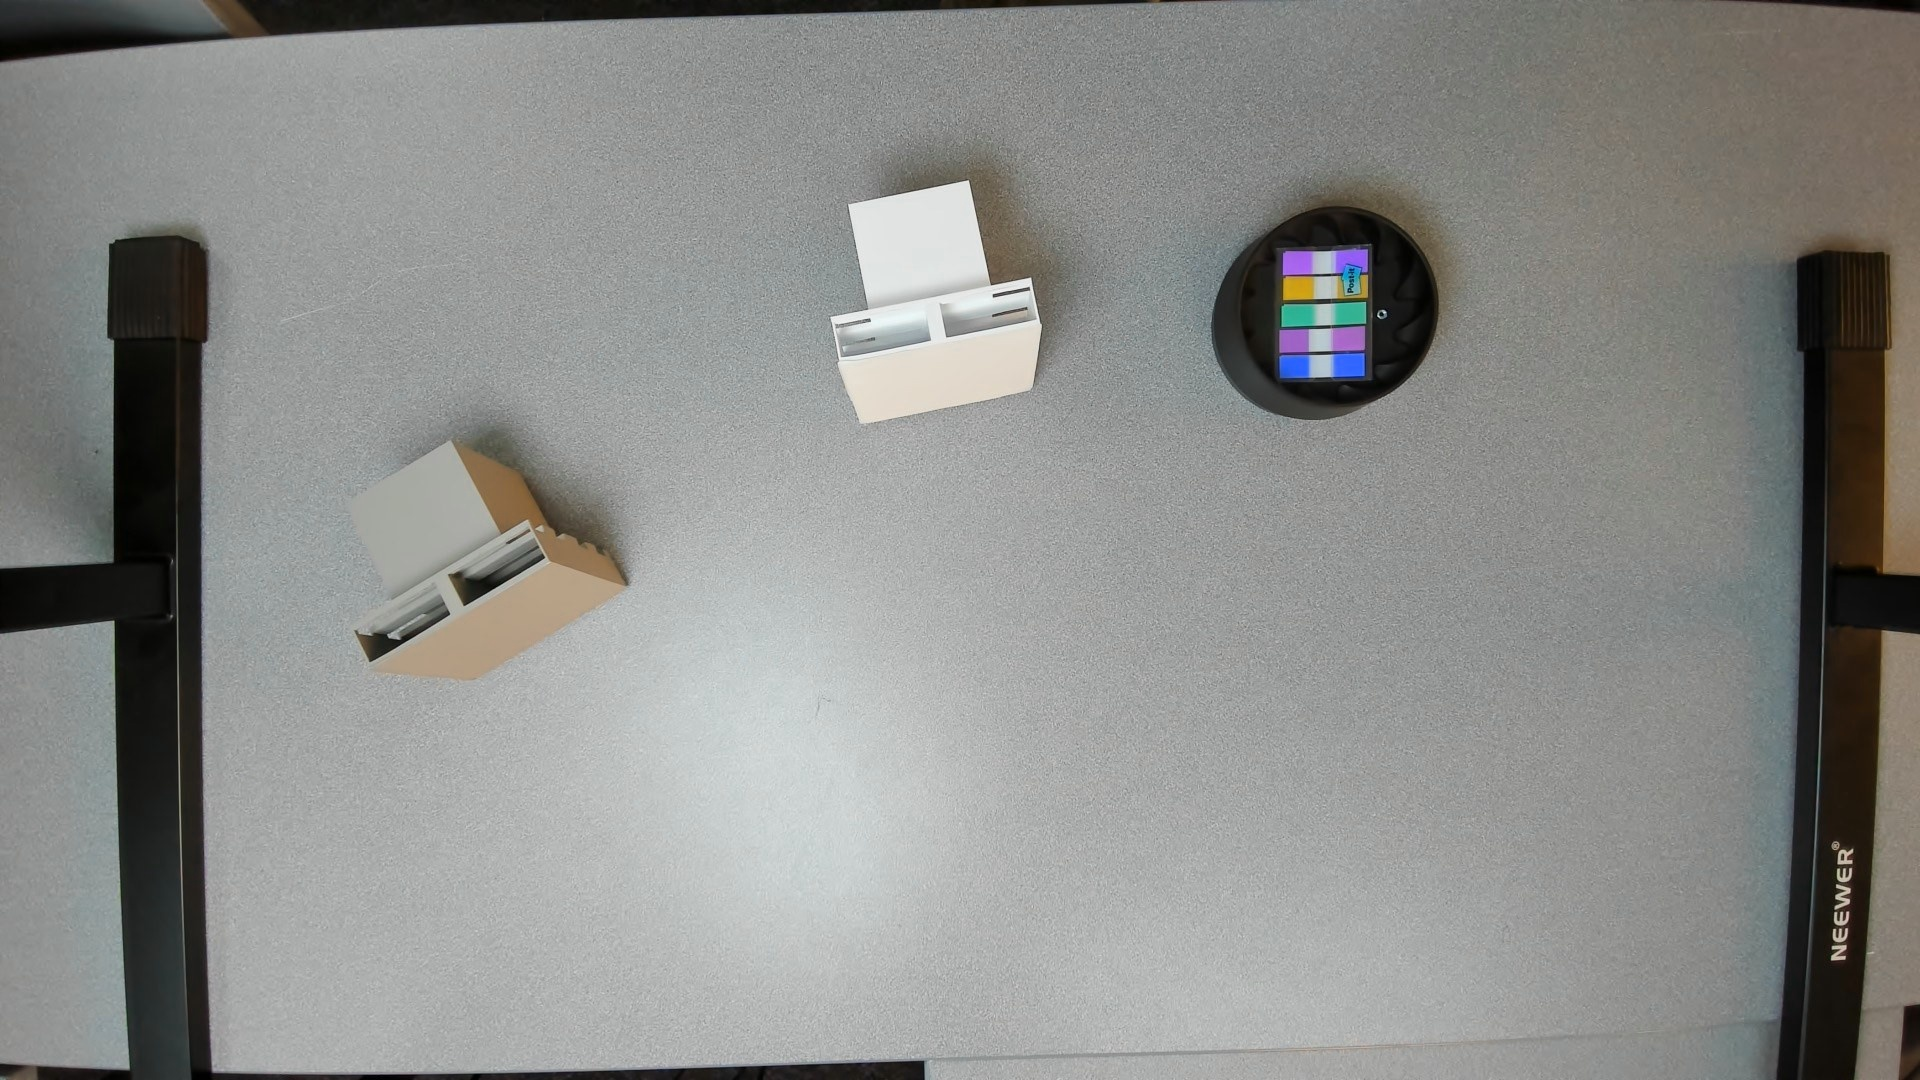grey pallet: (334, 440, 645, 695)
white pallet: (818, 174, 1062, 434)
